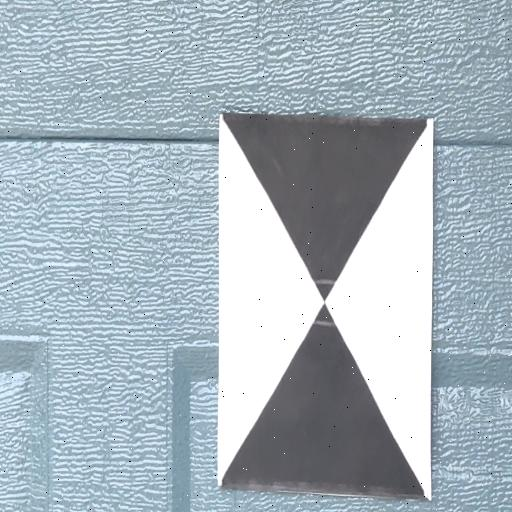target: (220, 113, 432, 499)
